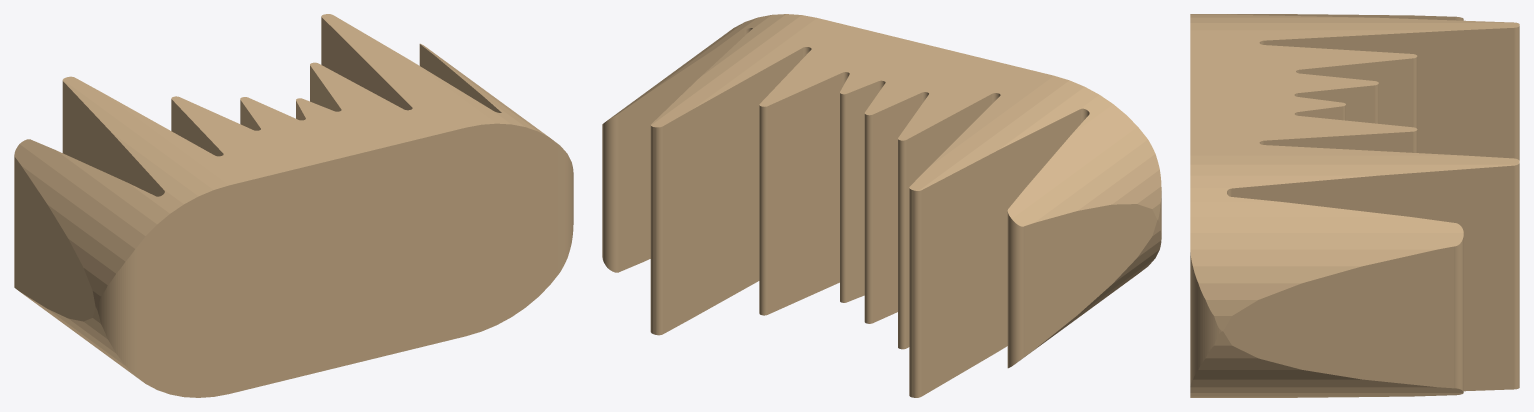
File: Mobililiario 3d Adrian Cespedes.glb
3 views of the same model, side by side, from view 1: azimuth 30°, elevation 25°; view 2: azimuth 150°, elevation 25°; view 3: azimuth 270°, elevation 25° (orthographic). The views are drawn at different scales.
Bounding box in the file's own units: 0.65 × 0.2736 × 0.3611.
